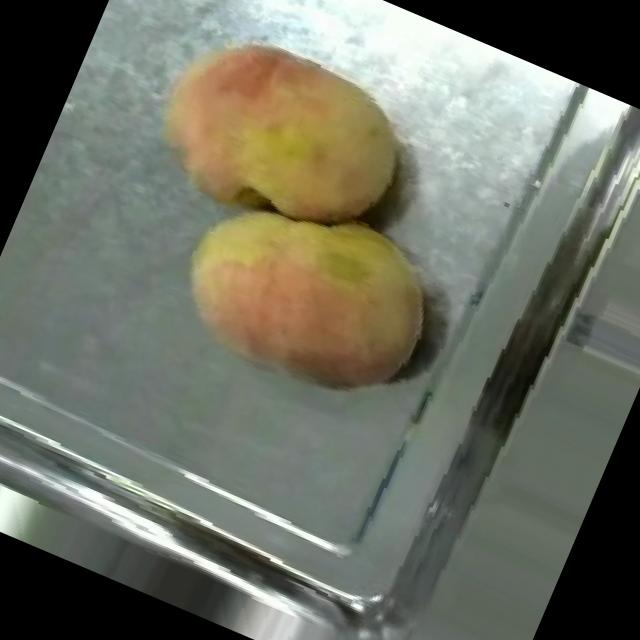Fruit: (150, 150, 465, 430), (117, 0, 439, 273)
